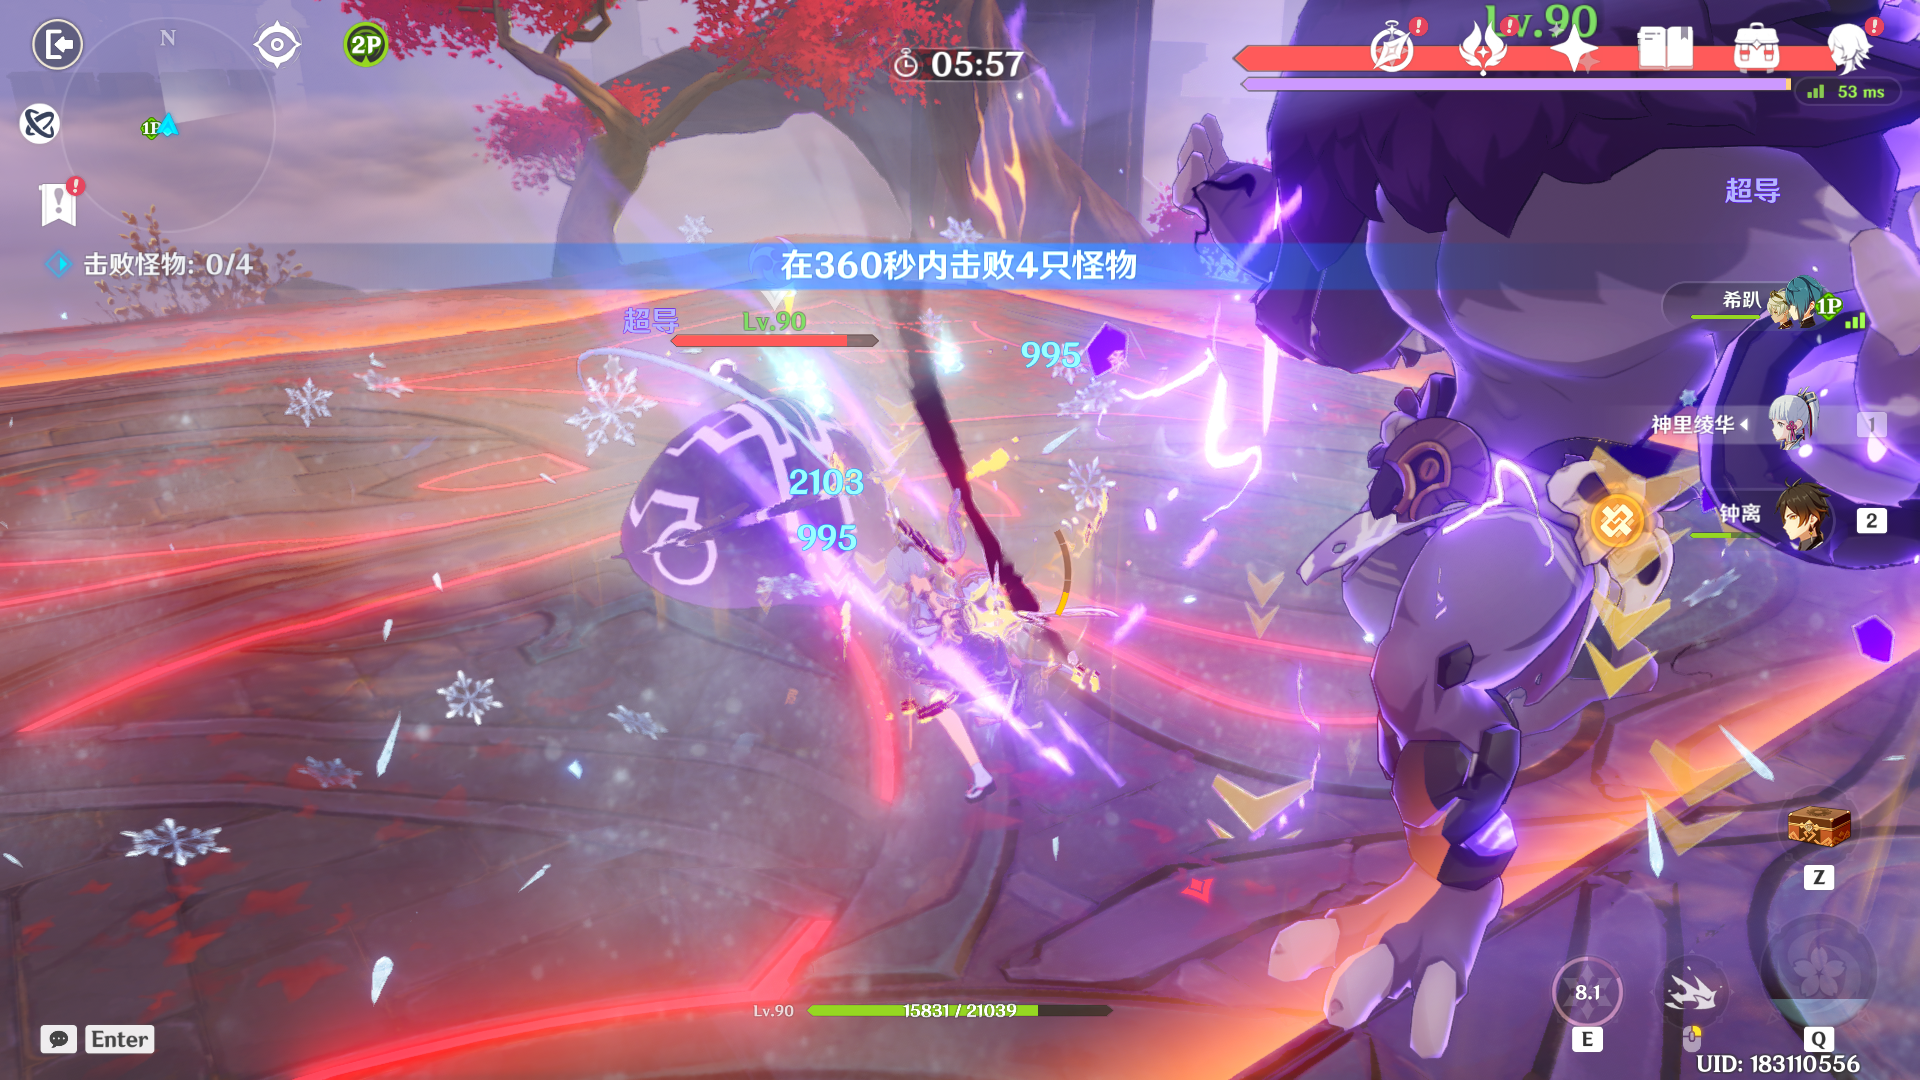bosshili: (1139, 1, 1919, 1064)
character: (841, 517, 1083, 822)
slime: (597, 385, 923, 641)
